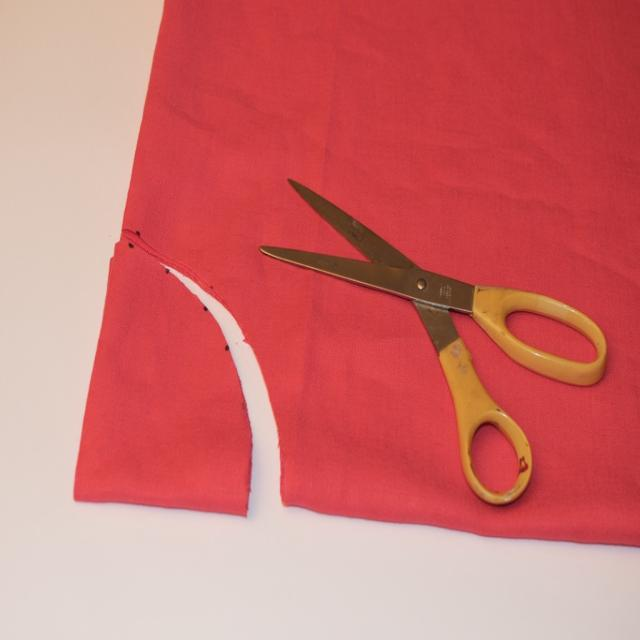scissors: (258, 176, 607, 506)
